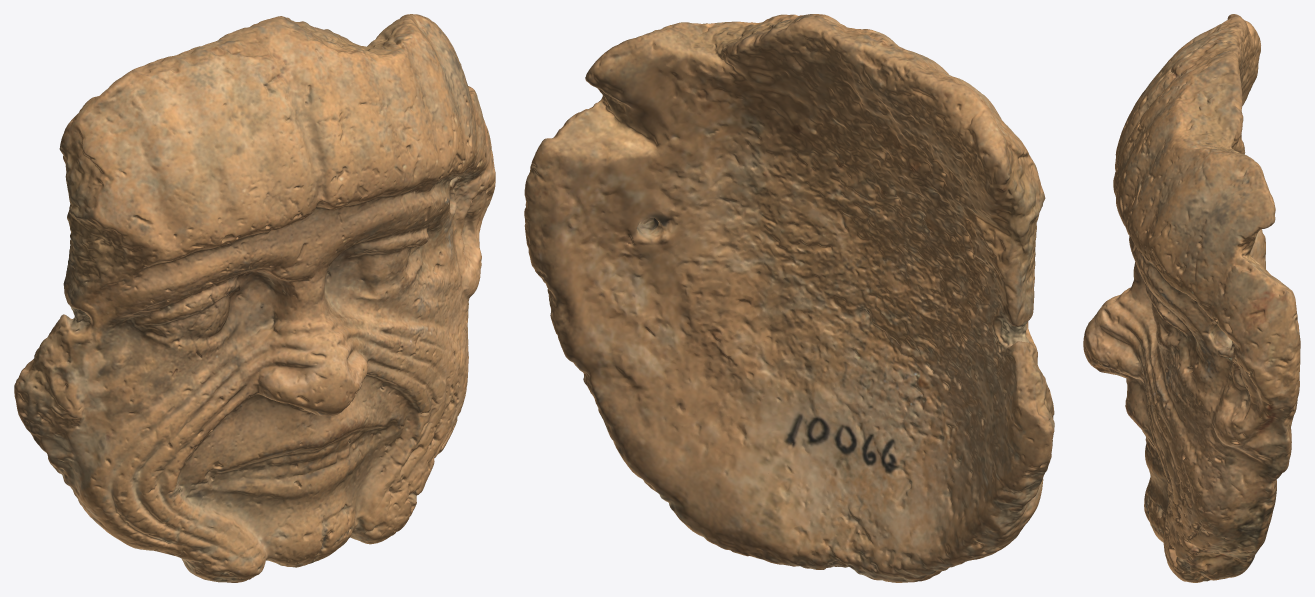
The model's file is huwawa_mask.glb.
The picture shows the model from 3 angles, left to right: view 1: azimuth 30°, elevation 25°; view 2: azimuth 150°, elevation 25°; view 3: azimuth 270°, elevation 25°; orthographic projection. The views are drawn at different scales.
Parts seen in each view (by area): view 1: Object_4, Object_3, Object_5, Object_2, Object_6; view 2: Object_2, Object_5, Object_3, Object_4; view 3: Object_2, Object_3, Object_4, Object_5, Object_6.
Part boxes in pixels (<box>): Object_4: <box>59,171,494,580</box>; Object_3: <box>59,25,495,582</box>; Object_5: <box>14,103,464,579</box>; Object_2: <box>109,14,495,582</box>; Object_6: <box>309,190,466,555</box>; Object_2: <box>524,14,976,582</box>; Object_5: <box>739,38,1054,573</box>; Object_3: <box>548,14,1045,582</box>; Object_4: <box>583,197,1053,484</box>; Object_2: <box>1116,14,1300,579</box>; Object_3: <box>1083,14,1288,582</box>; Object_4: <box>1083,236,1278,572</box>; Object_5: <box>1083,23,1265,569</box>; Object_6: <box>1118,239,1206,572</box>.
Size of the model in its own units: 87.83 by 91.96 by 37.06.
1 material, 1 textured.
